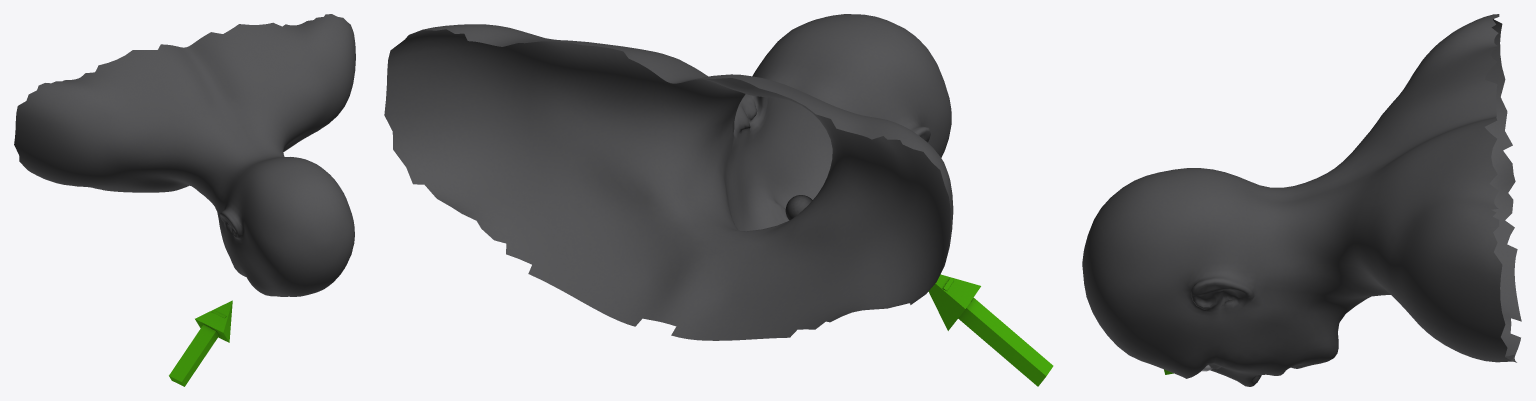
File: eyes.obj
3 renders of one model, left to right at view 1: azimuth 30°, elevation 25°; view 2: azimuth 150°, elevation 25°; view 3: azimuth 270°, elevation 25°, orthographic. The views are drawn at different scales.
Visible parts, largest first — view 1: Eyes001; view 2: Eyes001; view 3: Eyes001.
Boxes of the visible parts, <box> form: Eyes001: <box>14,14,355,386</box>; Eyes001: <box>384,14,1053,386</box>; Eyes001: <box>1082,14,1521,386</box>.
Size of the model in its own units: 74.45 by 50.48 by 56.39.
1 material, 1 textured.
